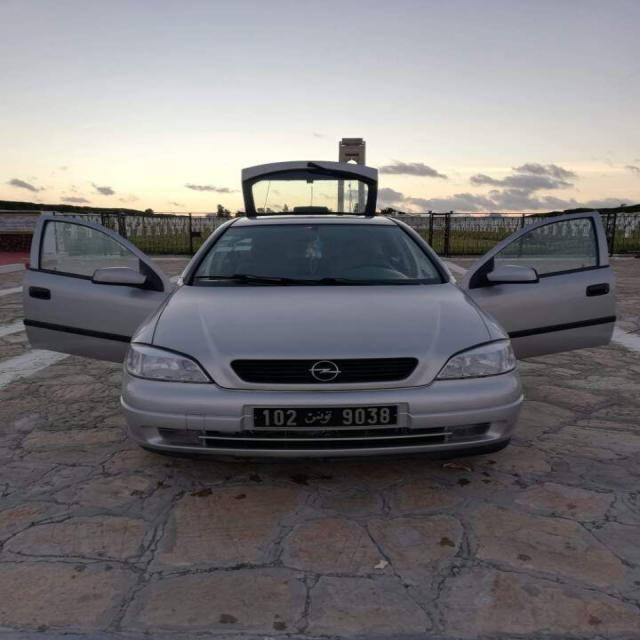LP: (251, 405, 397, 427)
